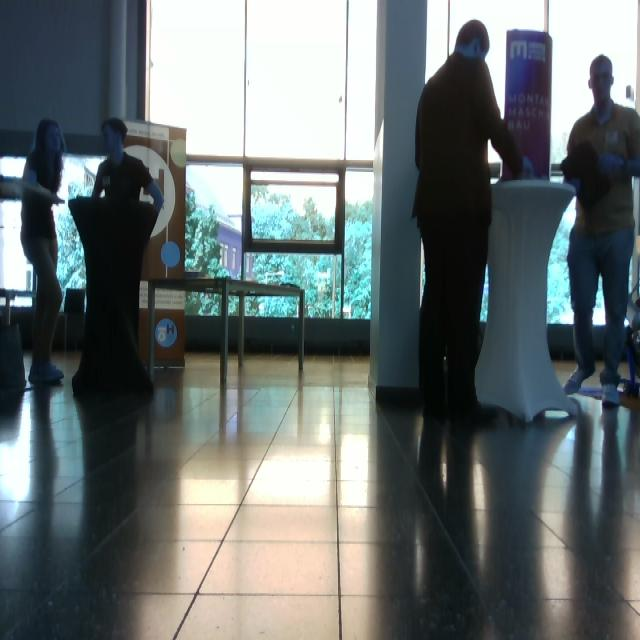door: (1, 121, 187, 364)
light bulb: (488, 140, 503, 184), (489, 161, 503, 182), (625, 85, 635, 101)
person: (412, 20, 524, 424), (562, 54, 640, 408), (71, 117, 165, 398), (20, 118, 67, 385)
pillar: (475, 178, 579, 424), (369, 1, 428, 400)
tiled floor: (2, 348, 639, 638)
window: (145, 1, 379, 322)
